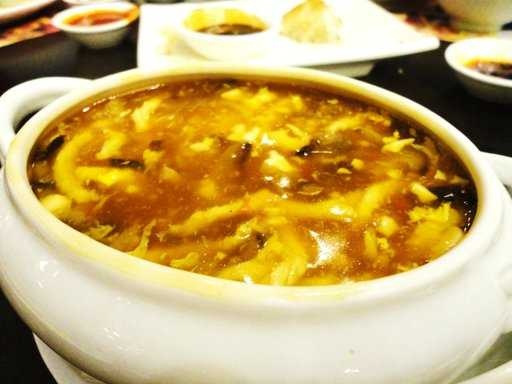soup: (28, 70, 500, 291)
